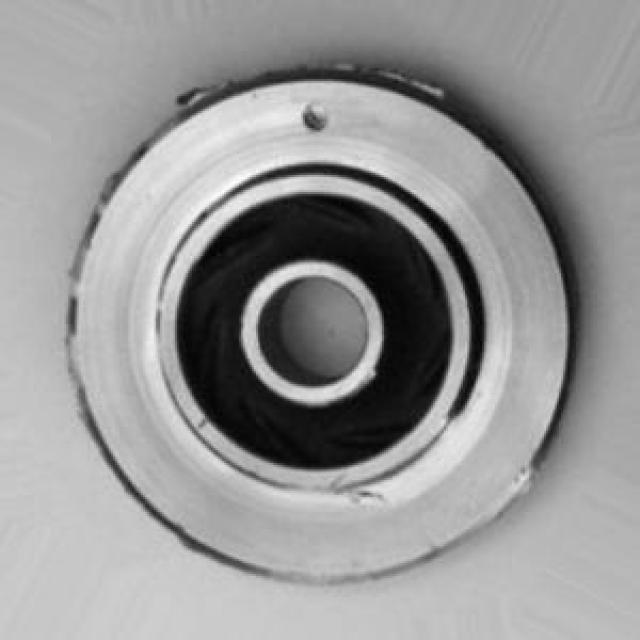Defect: (294, 104, 337, 133)
